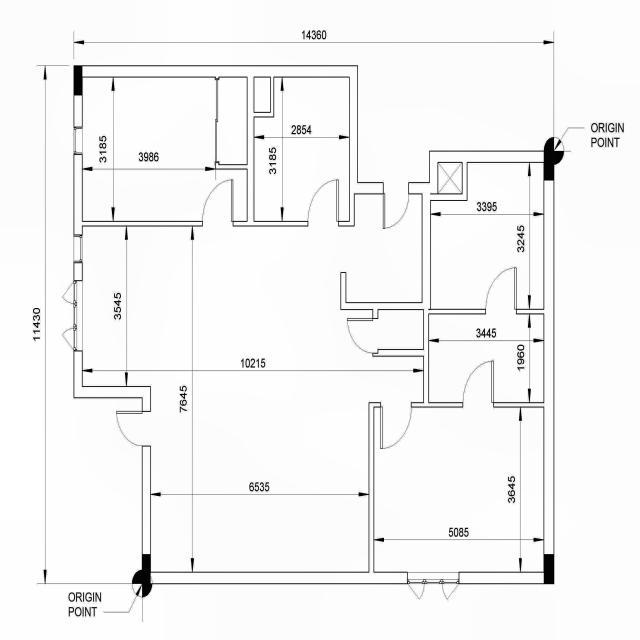Column: (140, 552, 152, 587), (542, 553, 554, 586), (73, 65, 83, 96), (544, 150, 554, 181)
Door: (112, 406, 160, 454), (376, 400, 416, 452), (483, 264, 519, 318), (200, 178, 237, 228), (461, 358, 496, 410), (306, 178, 341, 230), (343, 312, 380, 360), (382, 182, 410, 230)
Window: (404, 567, 464, 604), (61, 276, 88, 356), (70, 230, 84, 266), (72, 124, 84, 157)
